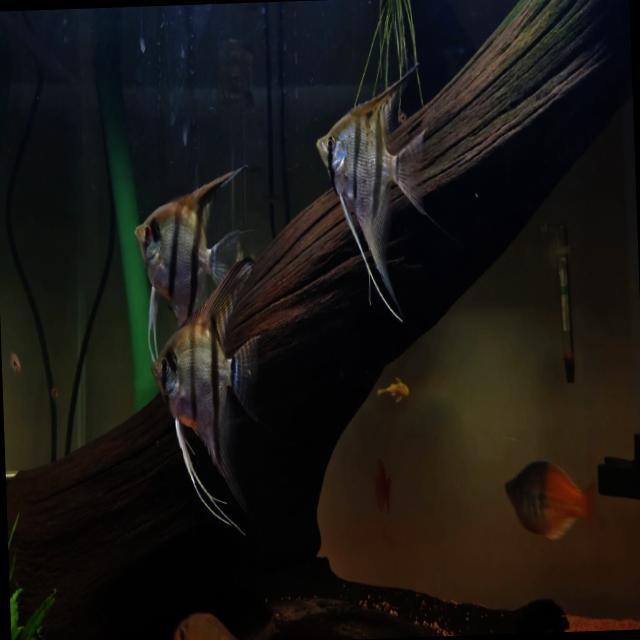AngelFish: (148, 258, 262, 543), (315, 58, 430, 334), (132, 161, 245, 313), (244, 308, 246, 310)
